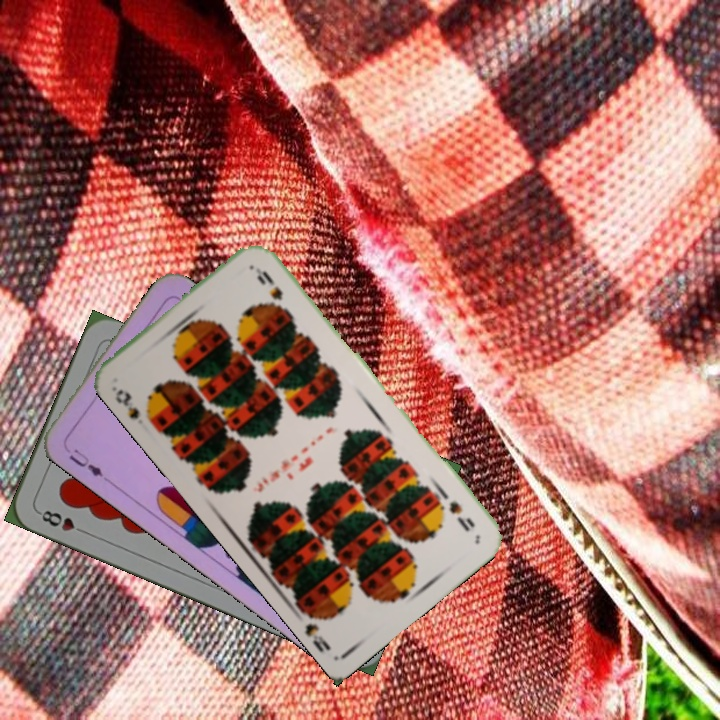EU: (65, 444, 106, 479)
H8: (34, 506, 90, 537)
S9: (434, 488, 478, 535), (111, 385, 159, 427)
